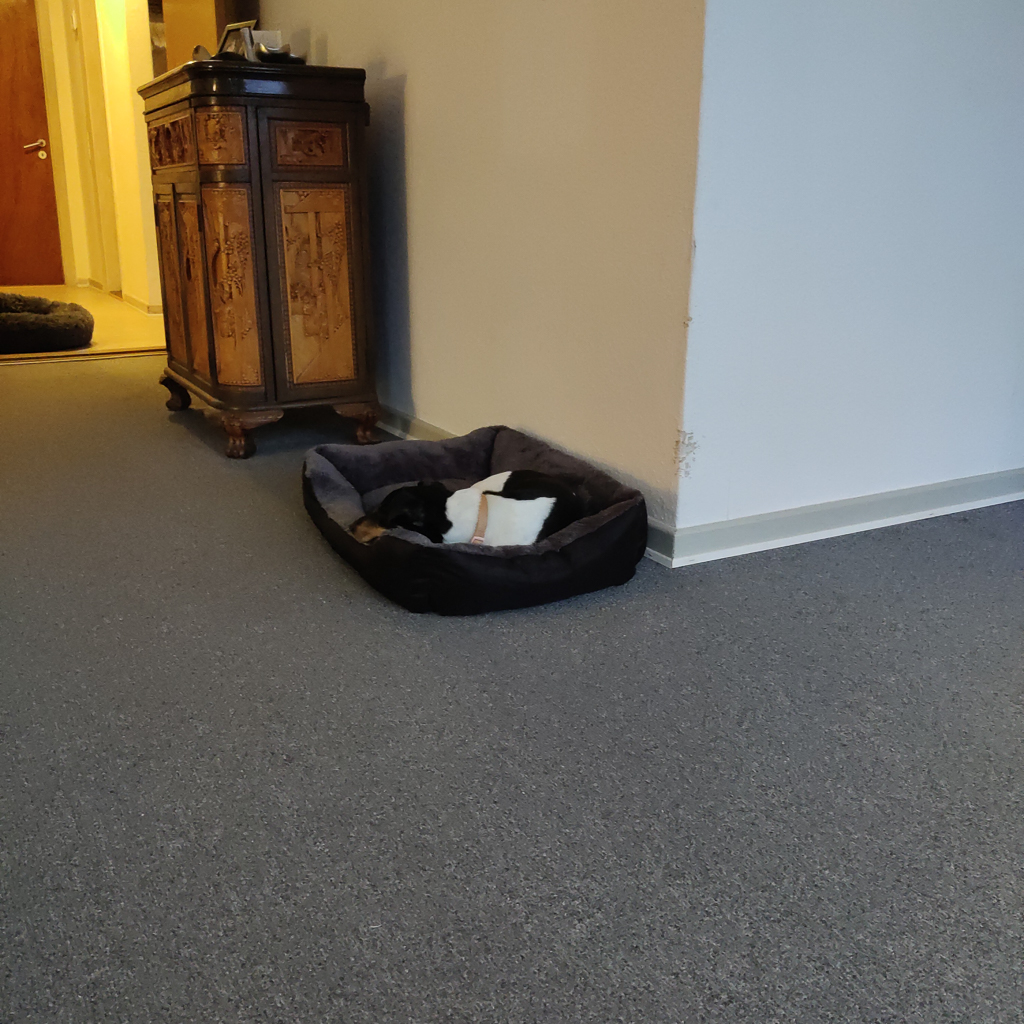Dog: (335, 446, 625, 578)
